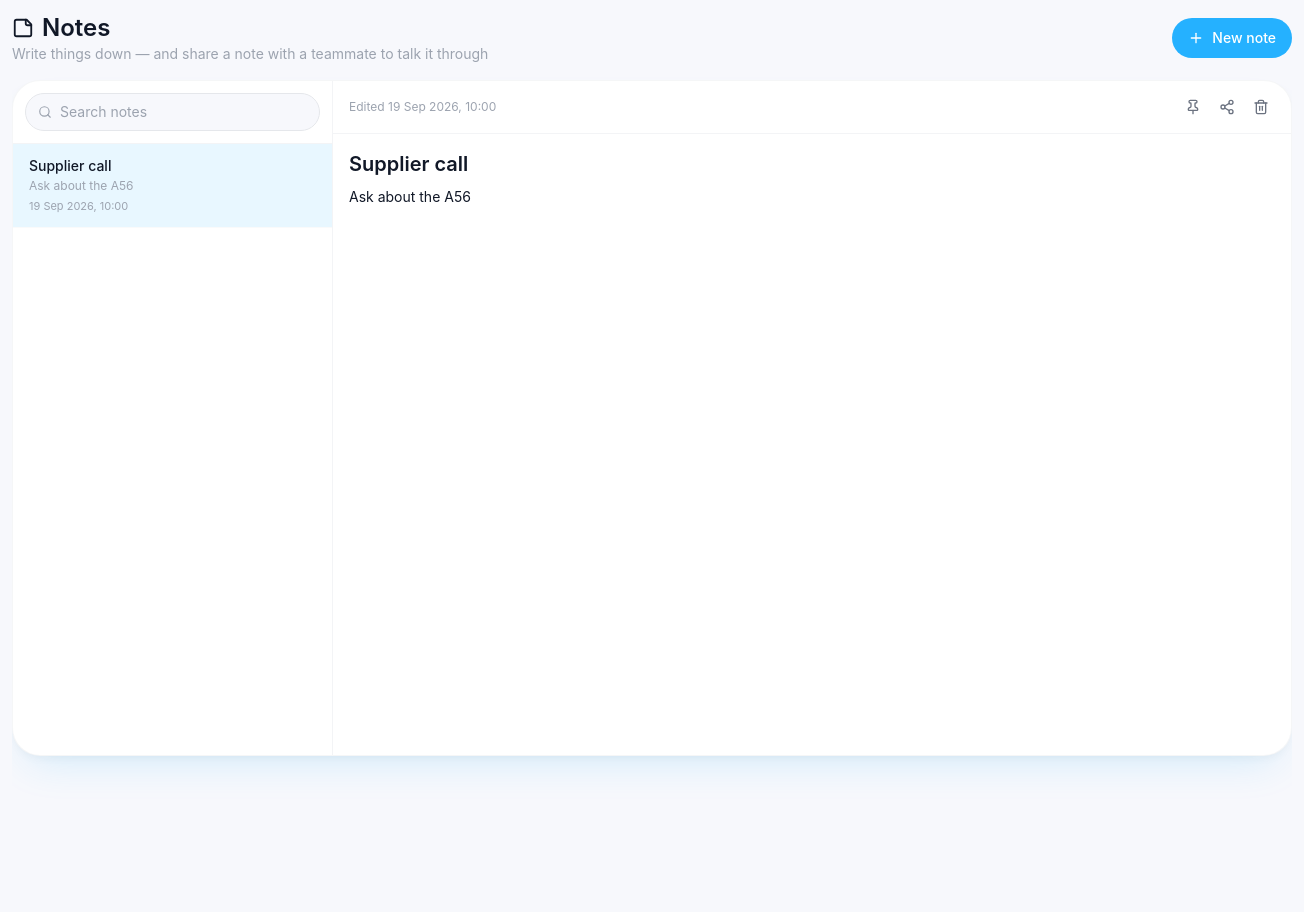
it: NotesPage › two people editing › warns instead of overwriting when someone saved first, and lets me pick a version
Type " mine" into the text box named "Note body" at (812, 462), box [349,186,1275,739]
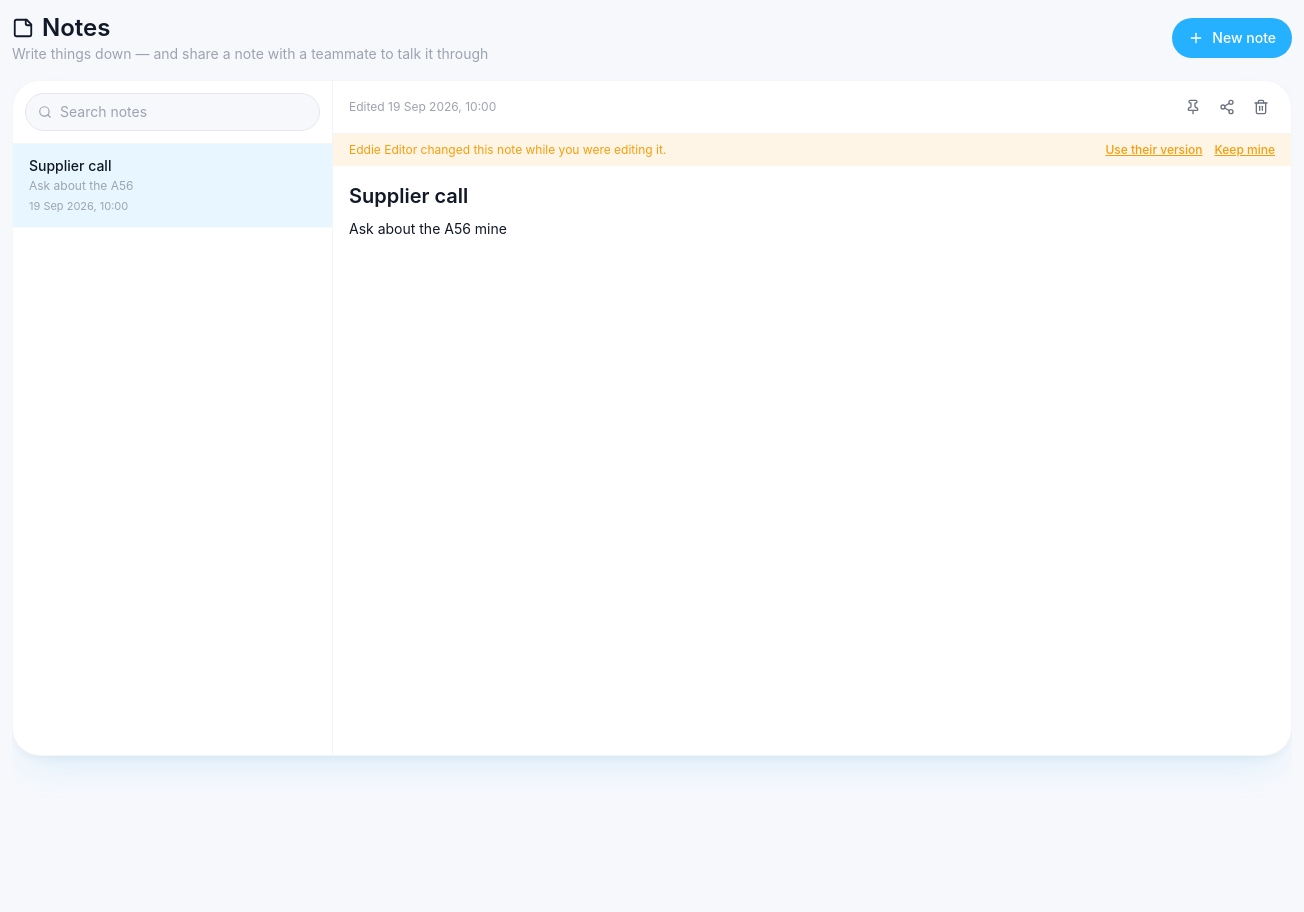
expect the text "Eddie Editor changed this note while you were editing it." is shown: met, box [349,142,666,157]
Click the button "Use their version" at (1154, 150), box [1105,142,1202,158]
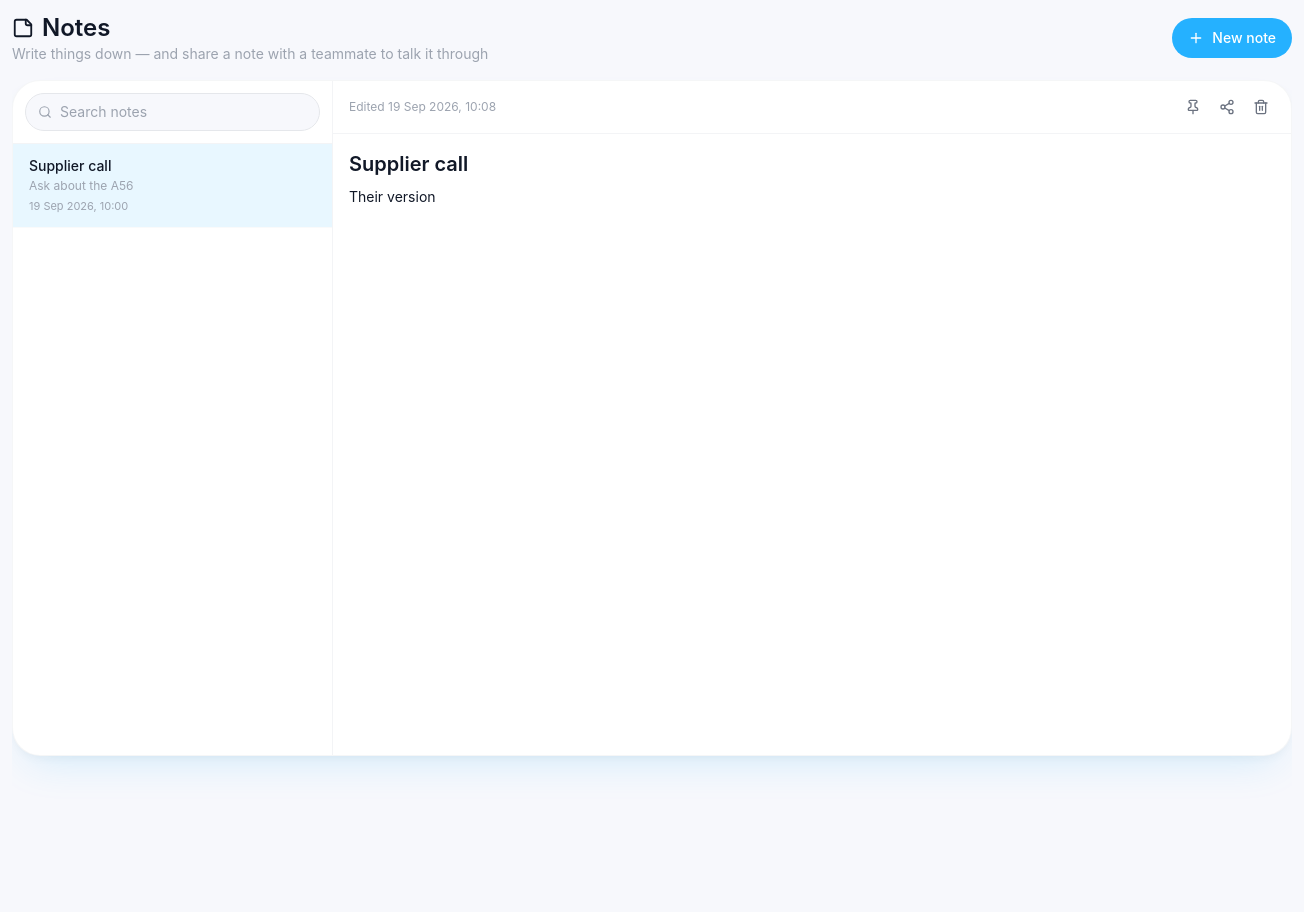
expect the text box named "Note body" holds "Their version": met, box [349,186,1275,739]
expect the message is gone: met
